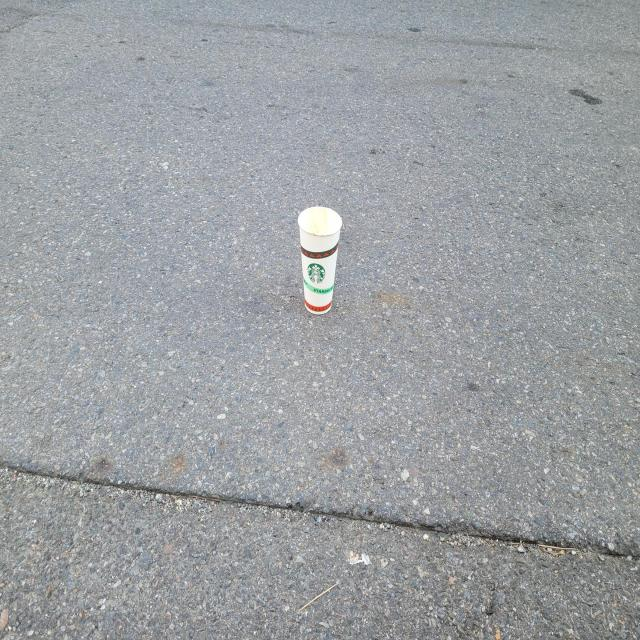paperpack: (298, 206, 342, 314)
